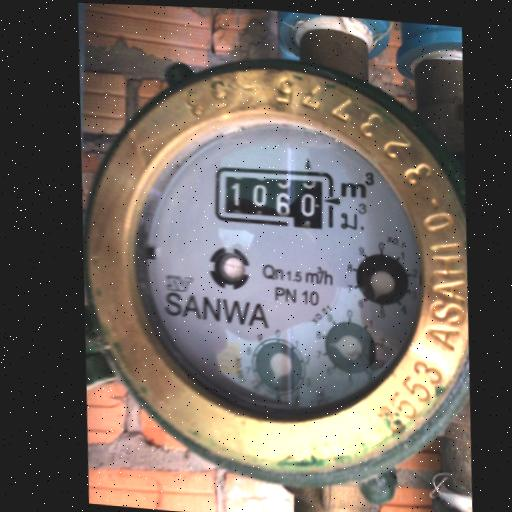0: (293, 179, 323, 229), (245, 177, 272, 217)
1: (223, 175, 246, 214)
6: (269, 178, 295, 219)
border_water_meter_number: (209, 162, 343, 232)
